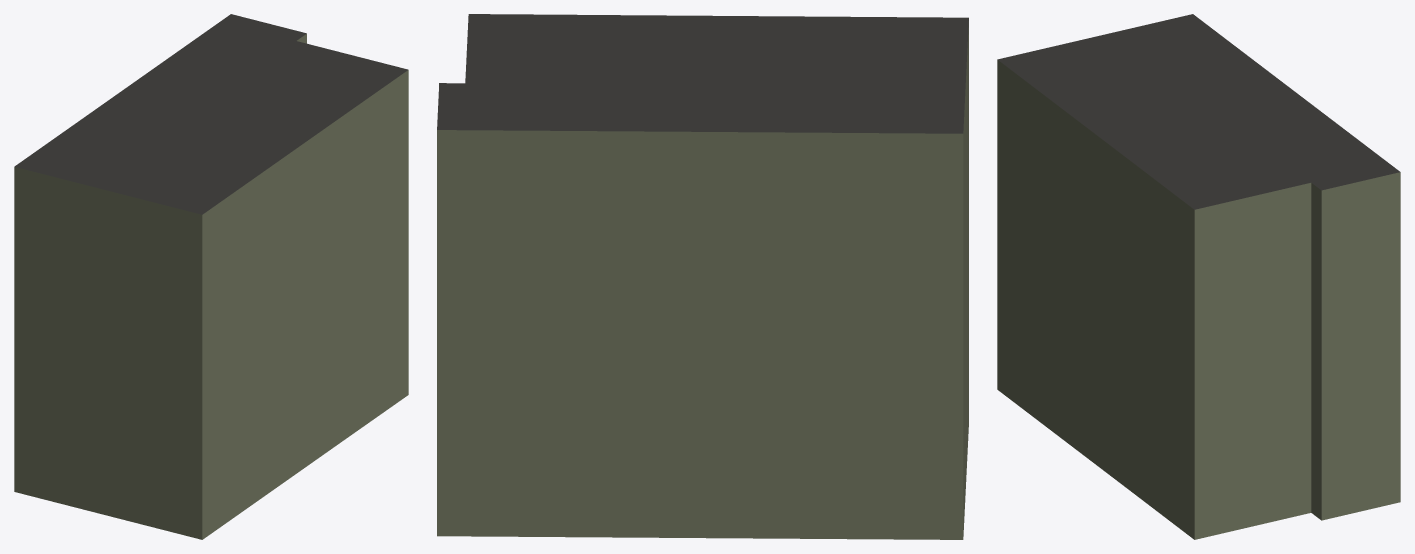
The model's file is nyc-1034218-0.glb.
The picture shows the model from 3 angles, left to right: view 1: azimuth 30°, elevation 25°; view 2: azimuth 150°, elevation 25°; view 3: azimuth 270°, elevation 25°; orthographic projection. The views are drawn at different scales.
Parts seen in each view (by area): view 1: nyc-1034218-0; view 2: nyc-1034218-0; view 3: nyc-1034218-0.
Part boxes in pixels (left/top/right/bottom): nyc-1034218-0: left=14, top=14, right=408, bottom=539; nyc-1034218-0: left=437, top=14, right=968, bottom=539; nyc-1034218-0: left=997, top=14, right=1400, bottom=539.
Bounding box in the file's own units: 41.24 × 32.42 × 35.89.
